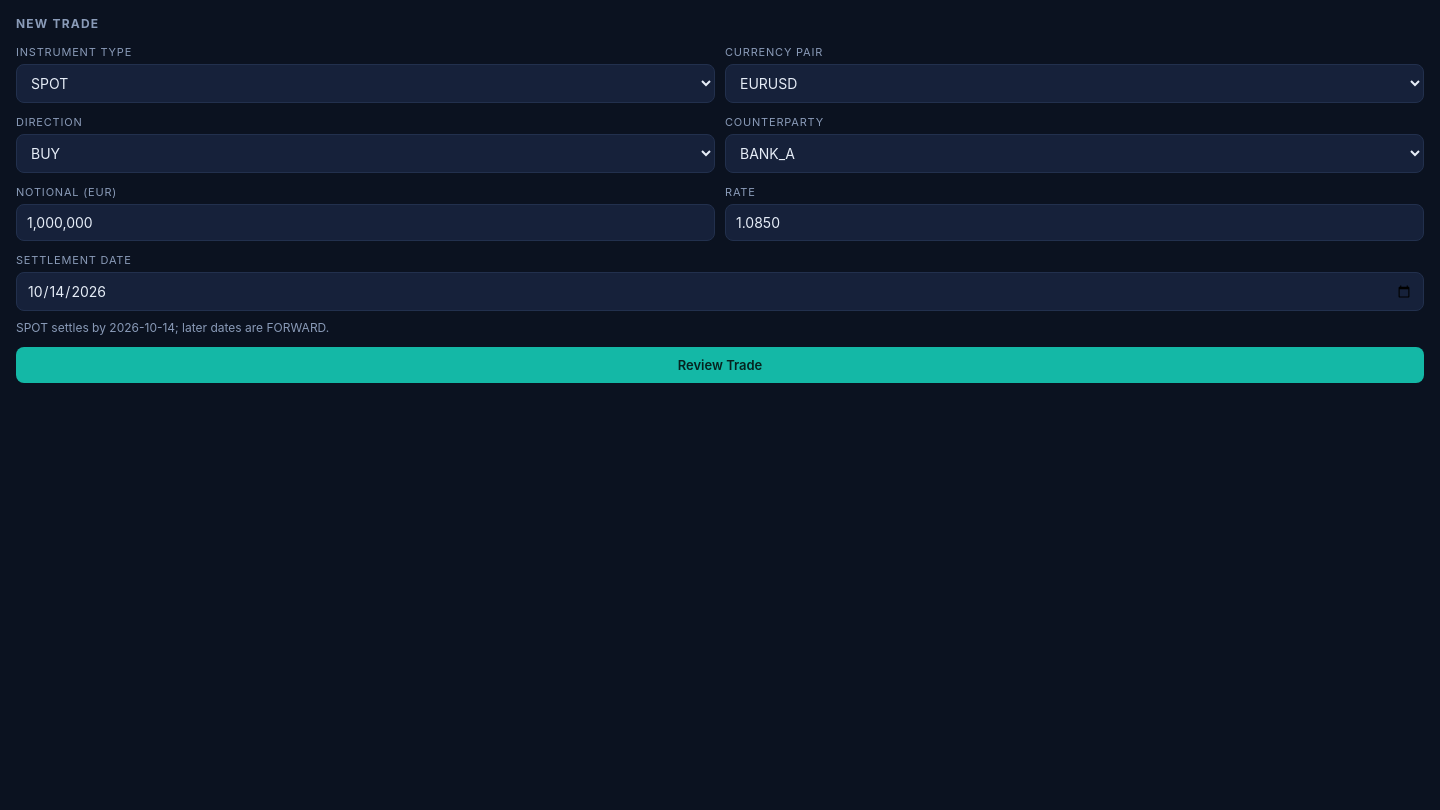
Test: NewTradeForm › OPTION trades › auto-fills the premium from the live option quote
Select "OPTION" in the dropdown labelled "Instrument Type" at [366, 84], box x1=16 y1=64 x2=715 y2=103
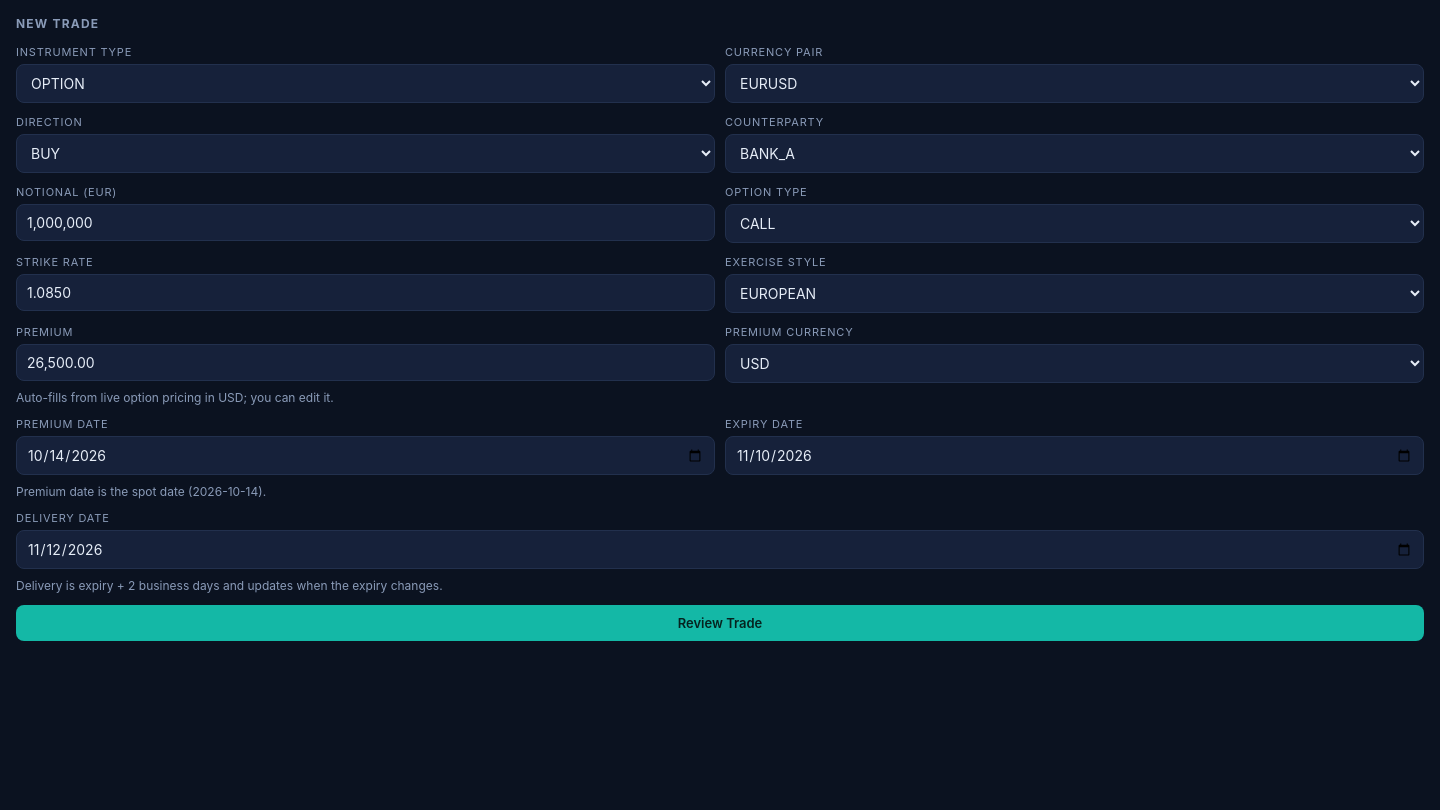
Expected: the field labelled "Premium" holds "26,500.00", x1=16 y1=344 x2=715 y2=381
Expected: the dropdown labelled "Premium Currency" shows "USD", x1=725 y1=344 x2=1424 y2=383
